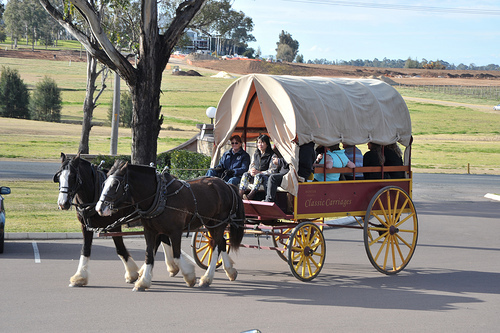horse: (94, 157, 246, 291), (53, 152, 181, 290)
